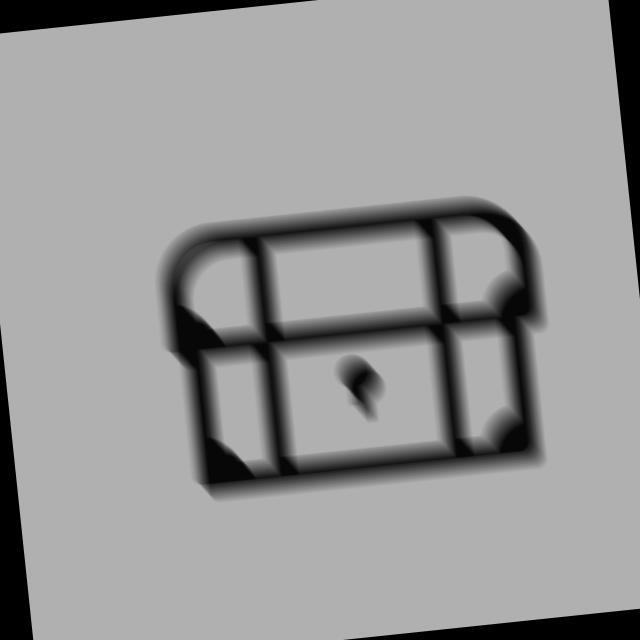treasure_box: (141, 177, 575, 511)
